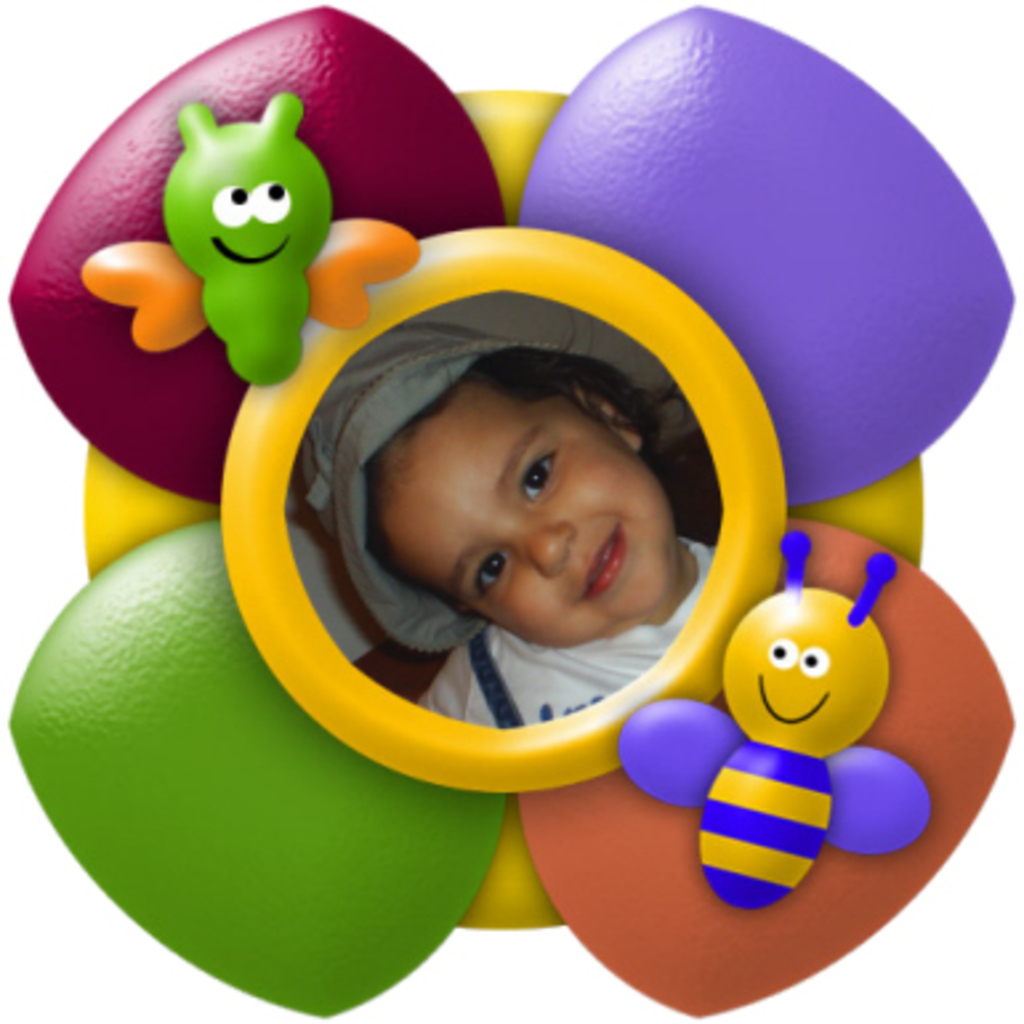Person: (303, 323, 721, 727)
